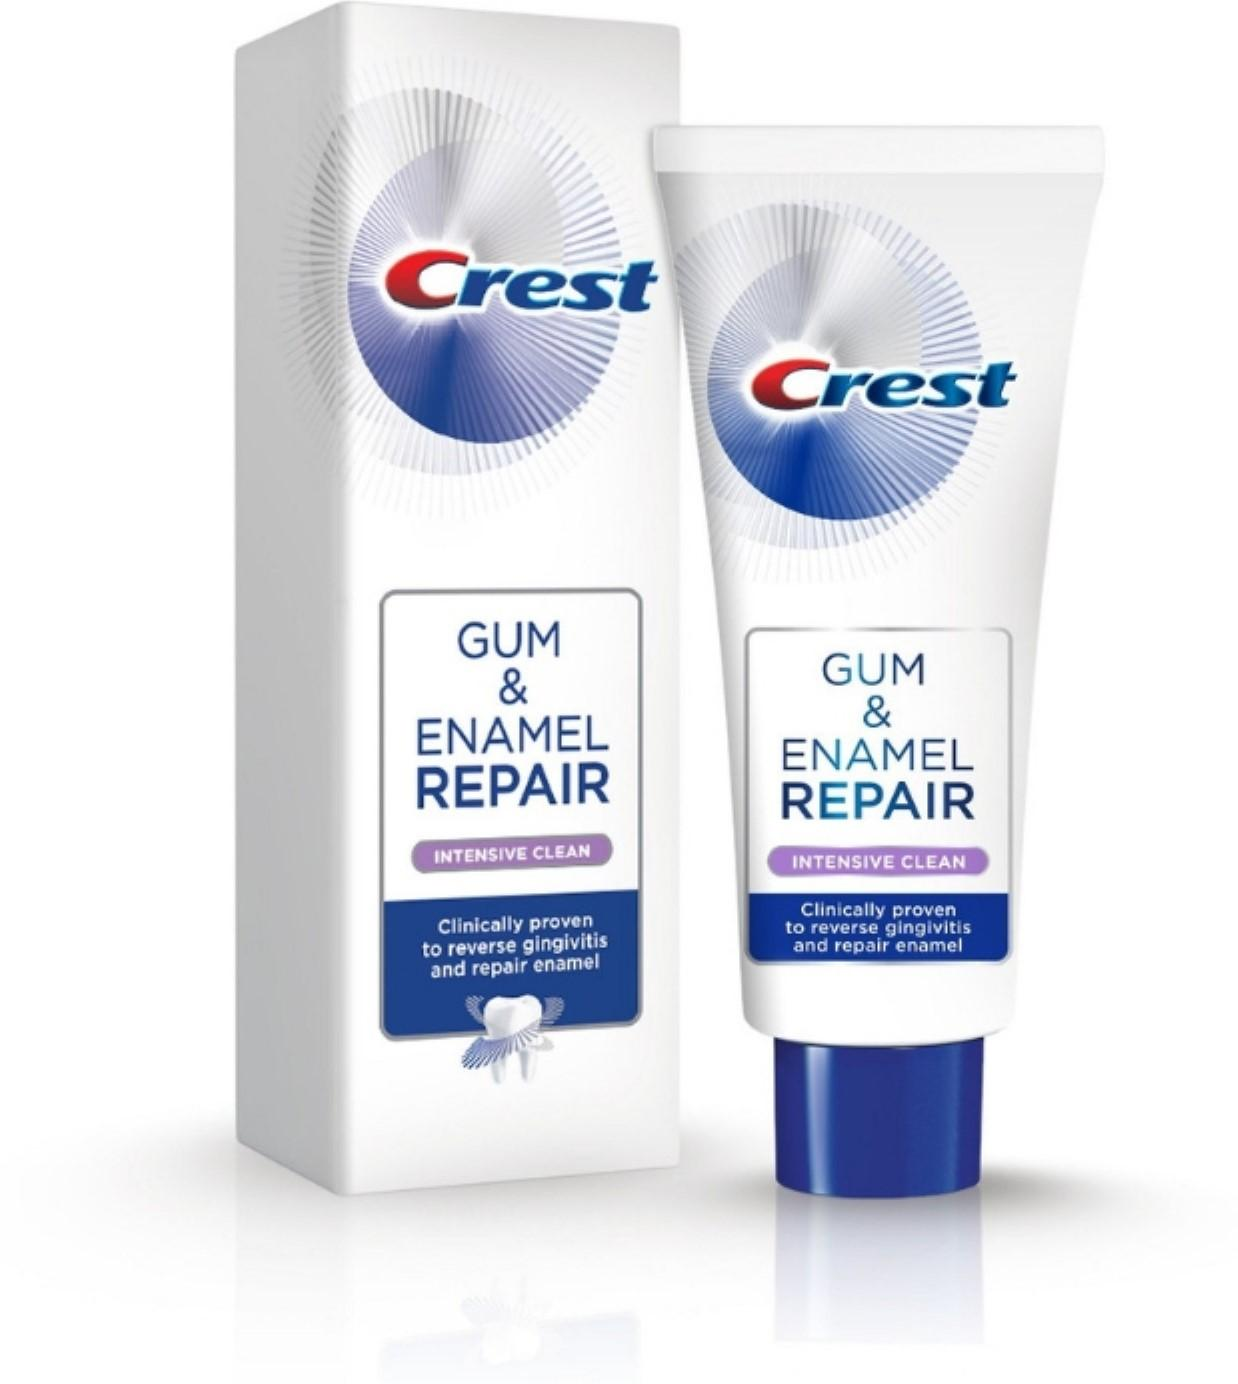toothpaste: (625, 93, 1130, 1229)
